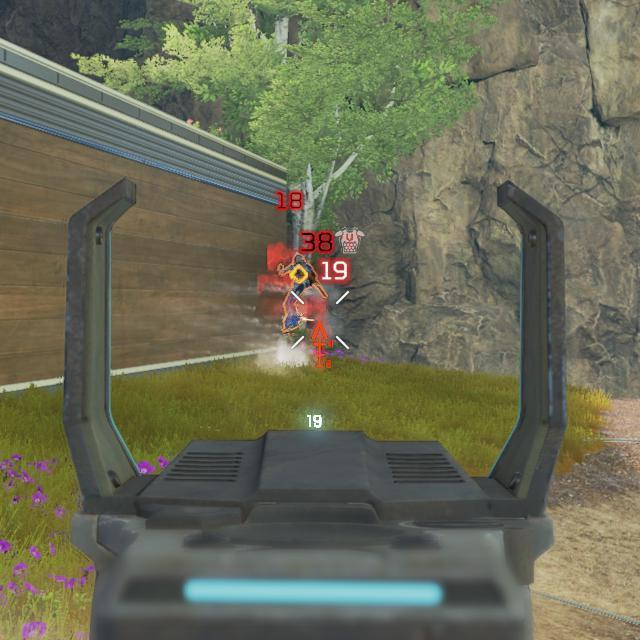avatar: (278, 253, 318, 332)
object: (288, 264, 309, 284)
